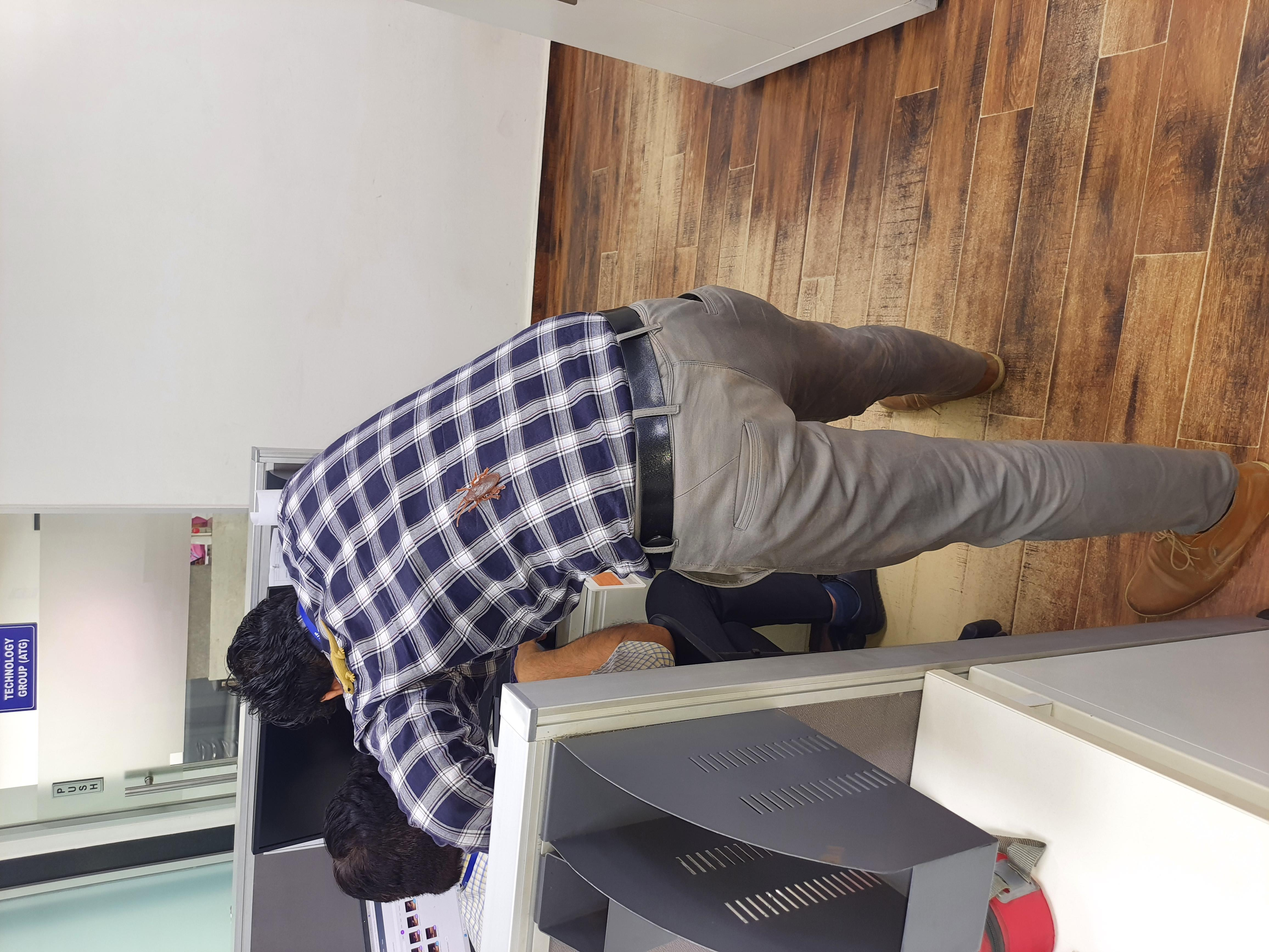cockroach: (568, 327, 652, 386)
lizard: (330, 241, 441, 274)
